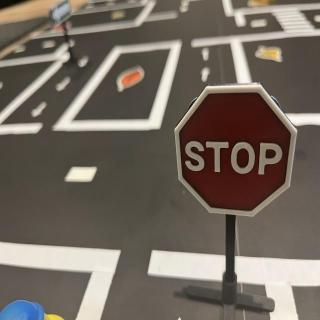duck_specialty: (1, 299, 73, 320), (201, 46, 212, 62)
road_oneway: (29, 99, 51, 119), (55, 74, 76, 94), (198, 64, 214, 88)
sign_oneway_left: (51, 1, 78, 29)
sign_stop: (175, 84, 298, 218)
